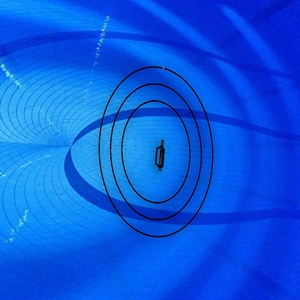circle: (97, 62, 217, 242)
submarine: (150, 136, 169, 174)
